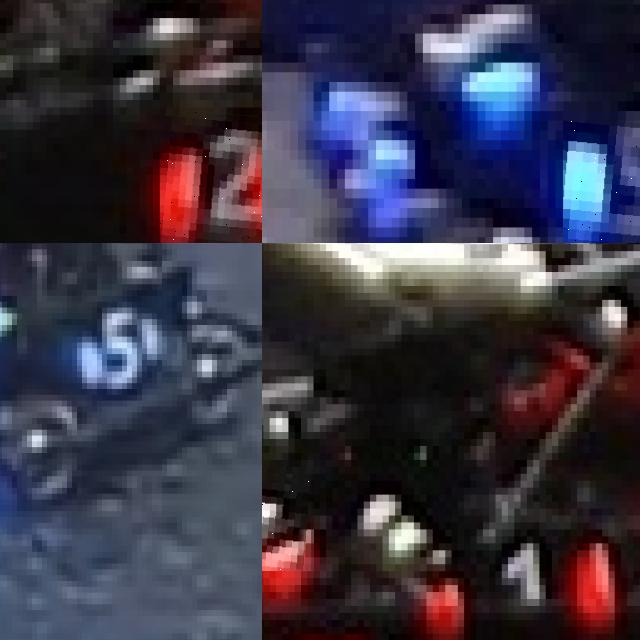B5: (563, 111, 640, 243), (82, 308, 157, 383)
R1: (262, 466, 313, 571)
R2: (159, 107, 262, 243)
